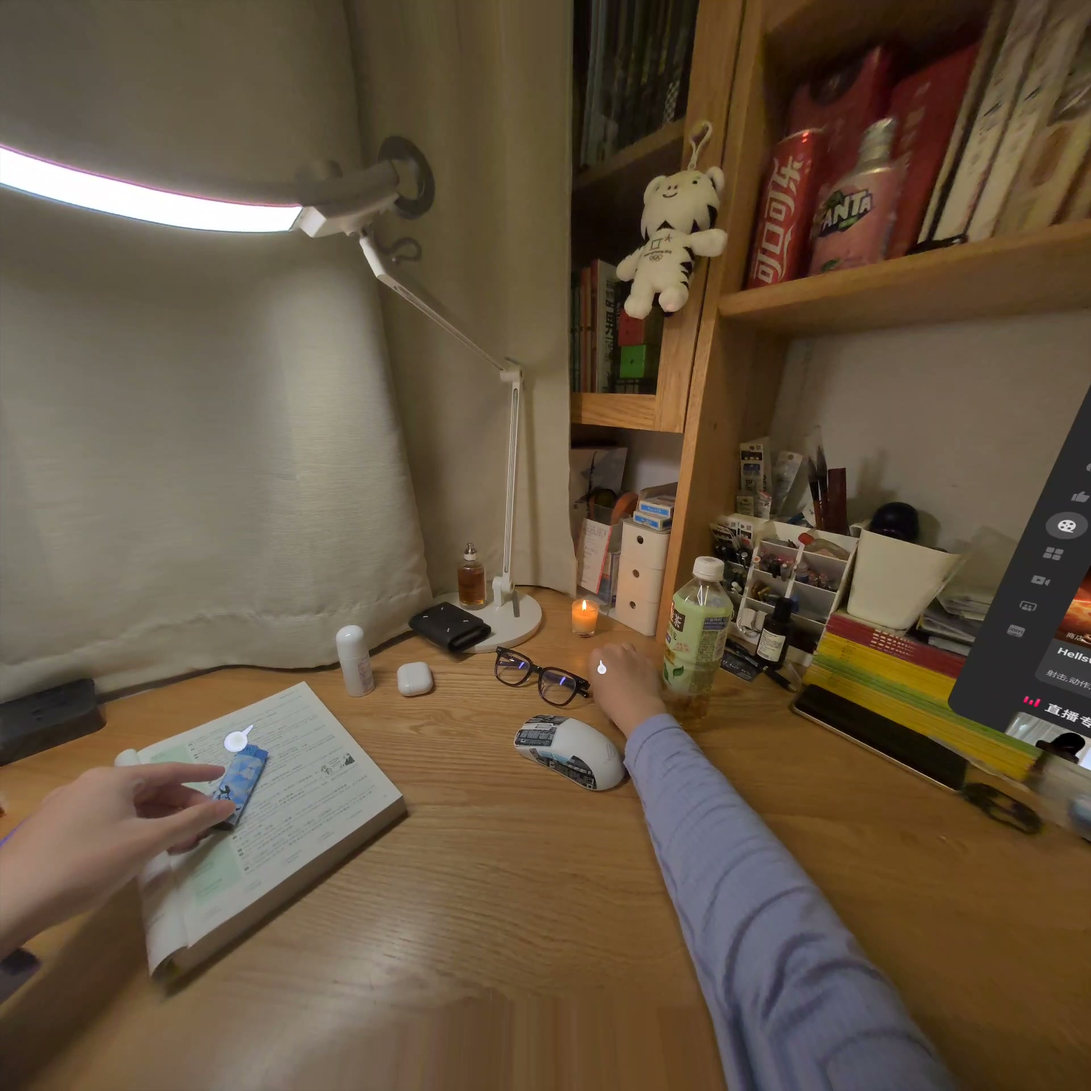lighter: (213, 744, 268, 831)
